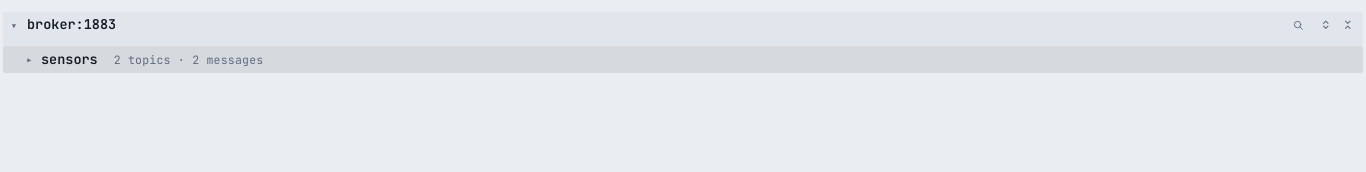
TopicTree › summarises a branch and shows the payload on a leaf
Expected: the text "2 topics · 2 messages" is shown, [114,51,263,69]
Click the button named "Expand sensors".
click(28, 60)  # box [23,55,33,65]
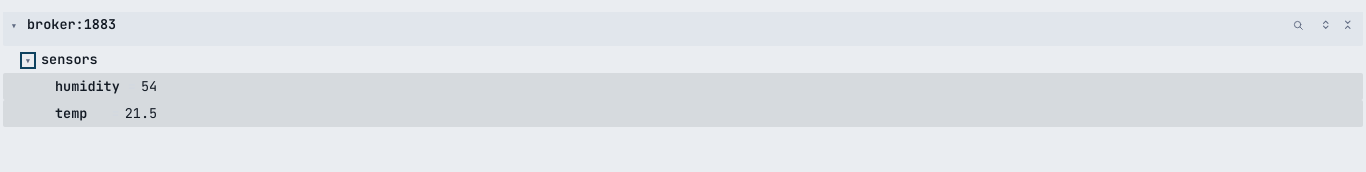
Now the text "21.5" is shown, box [112,103,157,124]
